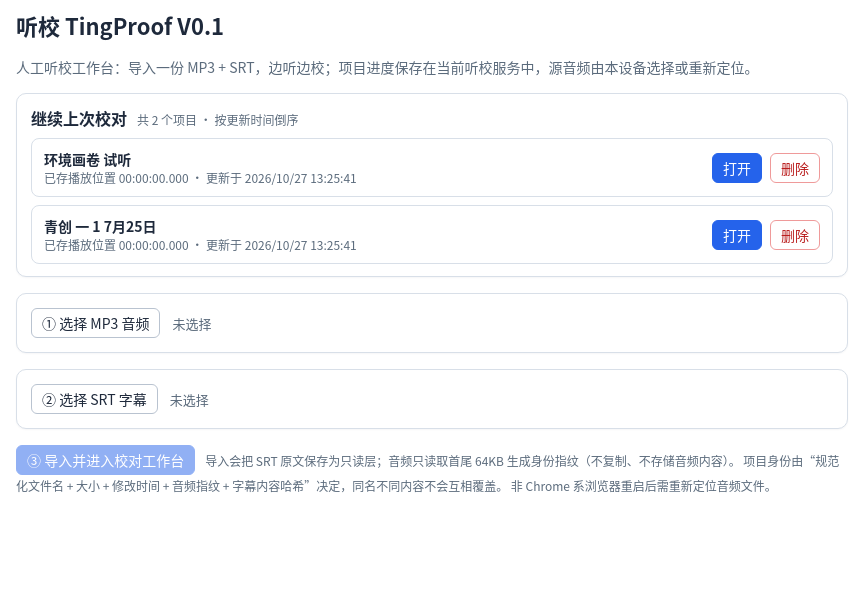
ImportScreen 删除历史记录（AC-066） › 每条在「打开」旁渲染「删除」按钮（可访问名称区分项目），行内二次确认文案完整
Expected: the button with aria-label "打开 环境画卷 试听" is shown, [712,152,762,182]
Expected: the button with aria-label "打开 青创 一 1 7月25日" is shown, [712,220,762,250]
Note: 点击「删除」只展开行内确认，不发请求。
Click the button with aria-label "删除 环境画卷 试听": (795, 168) [770,152,820,182]
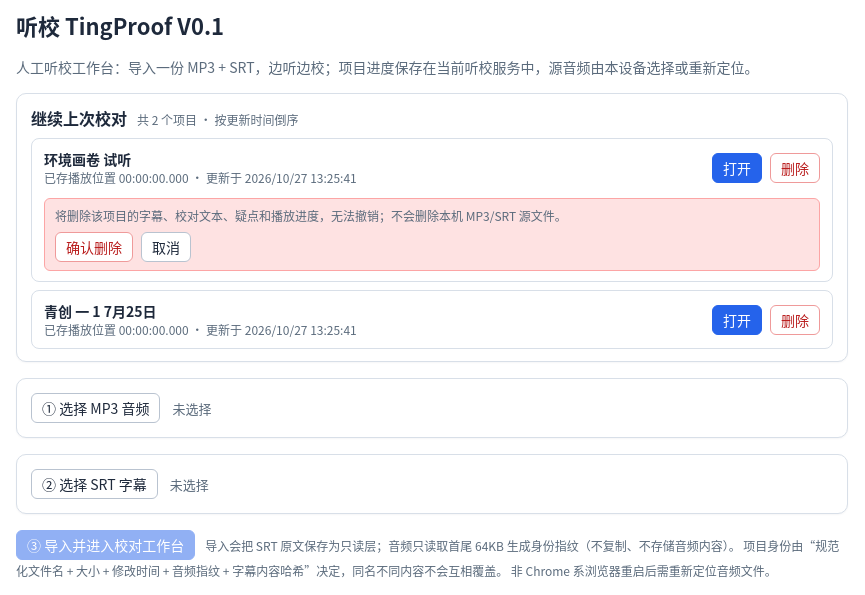
Expected: the text "将删除该项目的字幕、校对文本、疑点和播放进度，无法撤销；不会删除本机 MP3/SRT 源文件。" is shown, [55,207,567,224]
Expected: the button with aria-label "确认删除 环境画卷 试听" is shown, [55,232,133,262]
Expected: the button with aria-label "取消删除 环境画卷 试听" is shown, [141,232,191,262]
